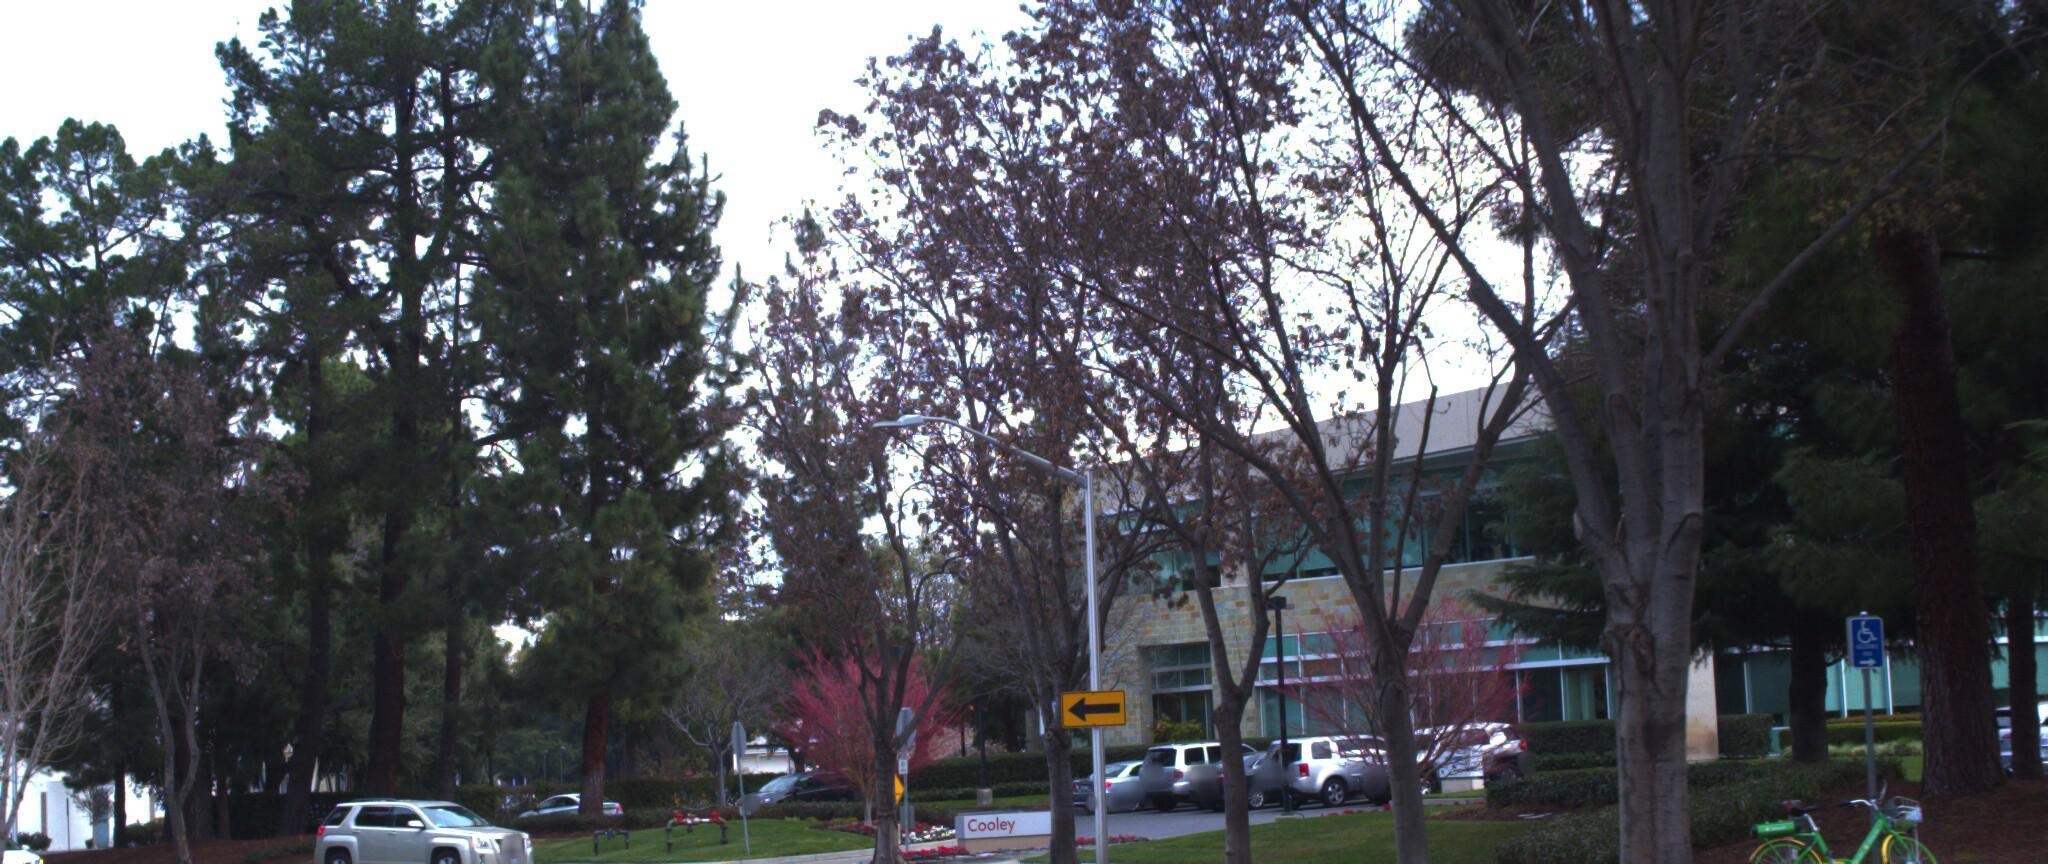bicycle: (1725, 765, 1972, 864)
car: (278, 779, 536, 864)
